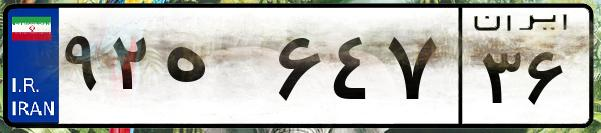2: (110, 28, 158, 98)
3: (475, 38, 525, 113)
4: (330, 28, 385, 110)
6: (270, 28, 330, 110), (525, 38, 570, 115)
7: (385, 28, 445, 110)
9: (57, 26, 110, 100)
ه: (158, 20, 270, 120)
